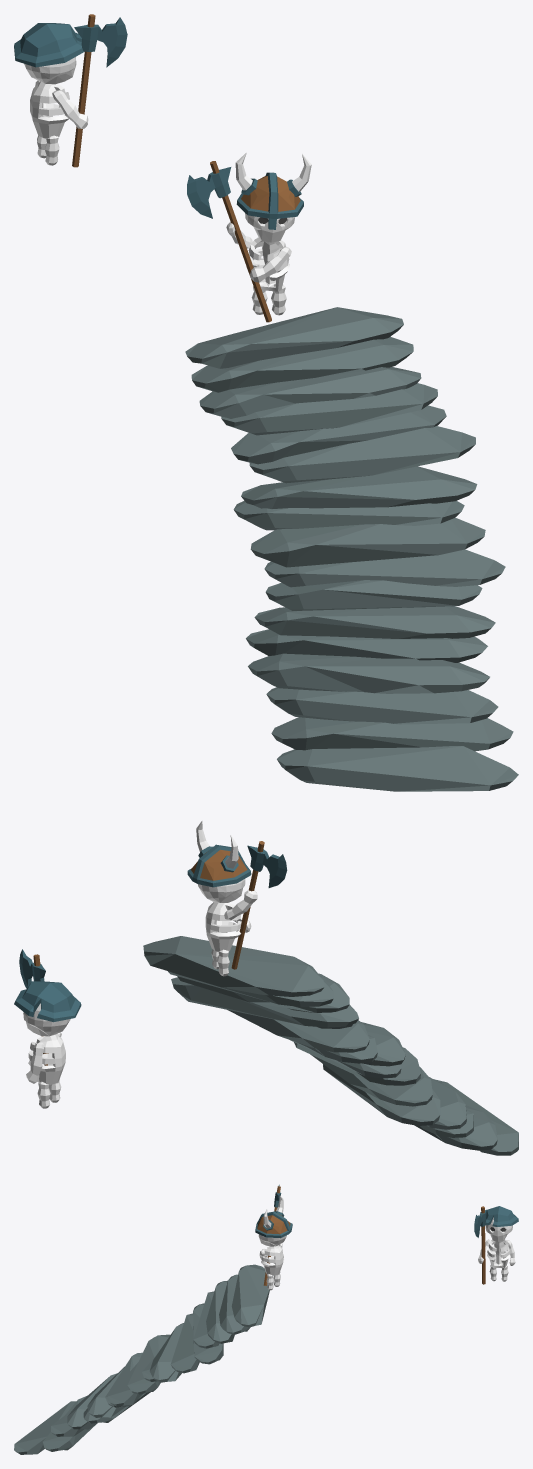
3 renders of one model, top to bottom at view 1: azimuth 30°, elevation 25°; view 2: azimuth 150°, elevation 25°; view 3: azimuth 270°, elevation 25°, orthographic. The views are drawn at different scales.
Parts seen in each view (by area): view 1: Box773_rock_0, Box767_rock_0, Box776_rock_0, Box764_rock_0, Box759_rock_0, Box771_rock_0, Box778_rock_0, Box775_rock_0, Box774_rock_0, Box766_rock_0, Box763_rock_0, Box762_rock_0 (+13 smaller); view 2: Box764_rock_0, Box760_rock_0, Box771_rock_0, Head105_metal_0, Box778_rock_0, Box777_rock_0, Sphere177_white_0, Box762_rock_0, Box774_rock_0, Sphere186_white_0, Box776_rock_0, Box773_rock_0 (+16 smaller); view 3: Box764_rock_0, Box767_rock_0, Box759_rock_0, Box771_rock_0, Box773_rock_0, Box762_rock_0, Box763_rock_0, Box778_rock_0, Box760_rock_0, Box776_rock_0, Box774_rock_0, Box766_rock_0 (+10 smaller).
Boxes of the visible parts, x1,y1,x2,y2 form: Box773_rock_0: [277, 746, 518, 791]; Box767_rock_0: [250, 517, 485, 567]; Box776_rock_0: [248, 653, 489, 693]; Box764_rock_0: [185, 307, 403, 368]; Box759_rock_0: [249, 426, 475, 483]; Box771_rock_0: [241, 466, 477, 508]; Box778_rock_0: [254, 606, 495, 638]; Box775_rock_0: [266, 687, 498, 724]; Box774_rock_0: [271, 717, 513, 751]; Box766_rock_0: [264, 549, 505, 587]; Box763_rock_0: [191, 336, 413, 392]; Box762_rock_0: [199, 367, 421, 418]; Box764_rock_0: [143, 936, 324, 996]; Box760_rock_0: [171, 977, 358, 1027]; Box771_rock_0: [228, 1010, 369, 1052]; Head105_metal_0: [14, 981, 81, 1022]; Box778_rock_0: [310, 1054, 432, 1106]; Box777_rock_0: [323, 1064, 440, 1125]; Sphere177_white_0: [205, 902, 241, 951]; Box762_rock_0: [177, 973, 349, 1012]; Box774_rock_0: [414, 1105, 497, 1150]; Sphere186_white_0: [28, 1034, 65, 1084]; Box776_rock_0: [427, 1077, 466, 1129]; Box773_rock_0: [434, 1079, 518, 1155]; Box764_rock_0: [231, 1264, 269, 1327]; Box767_rock_0: [127, 1334, 170, 1394]; Box759_rock_0: [170, 1313, 199, 1373]; Box771_rock_0: [149, 1323, 183, 1382]; Box773_rock_0: [14, 1401, 75, 1454]; Box762_rock_0: [206, 1280, 234, 1343]; Box763_rock_0: [219, 1274, 250, 1334]; Box778_rock_0: [87, 1366, 125, 1417]; Box760_rock_0: [193, 1303, 223, 1364]; Box776_rock_0: [67, 1373, 117, 1429]; Box774_rock_0: [43, 1396, 96, 1451]; Box766_rock_0: [108, 1363, 142, 1406].
Size of the model in its own units: 383 by 604 by 1088.
